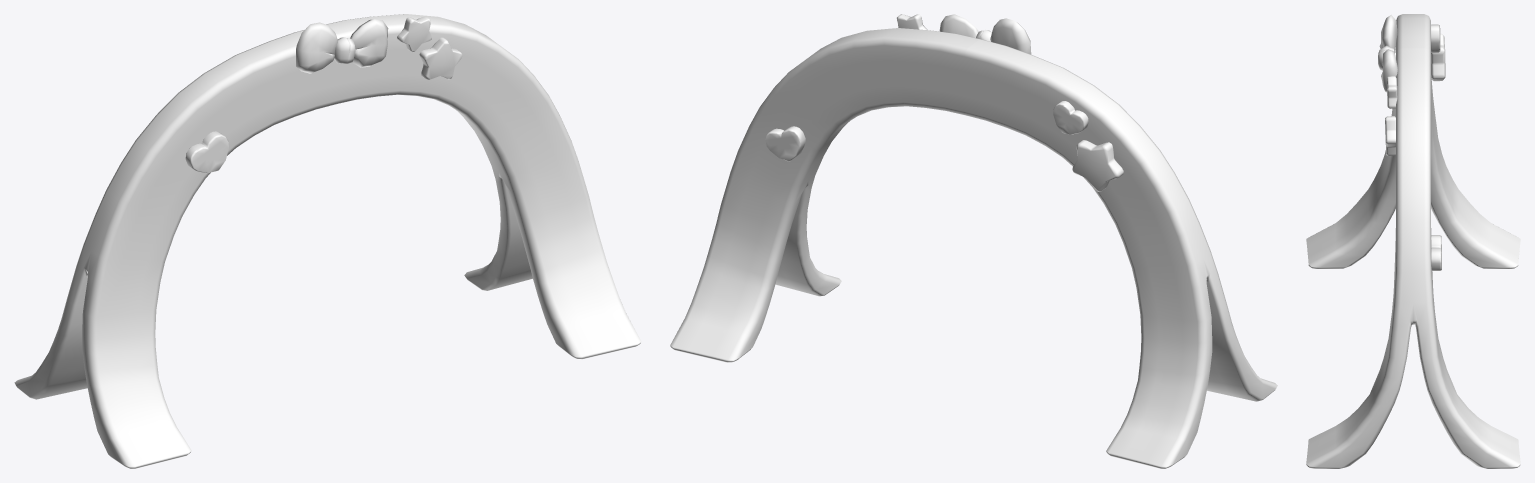
File: Prop_IvorySwing.glb
3 renders of one model, left to right at view 1: azimuth 30°, elevation 25°; view 2: azimuth 150°, elevation 25°; view 3: azimuth 270°, elevation 25°, orthographic. The views are drawn at different scales.
Parts seen in each view (by area): view 1: Prop_IvorySwing; view 2: Prop_IvorySwing; view 3: Prop_IvorySwing.
Part boxes in pixels (x1,y1,x2,y2): Prop_IvorySwing: (14,14,641,468); Prop_IvorySwing: (670,14,1277,468); Prop_IvorySwing: (1306,14,1520,468).
Bounding box in the file's own units: 43.93 × 29.01 × 17.23.
1 material, 1 textured.
